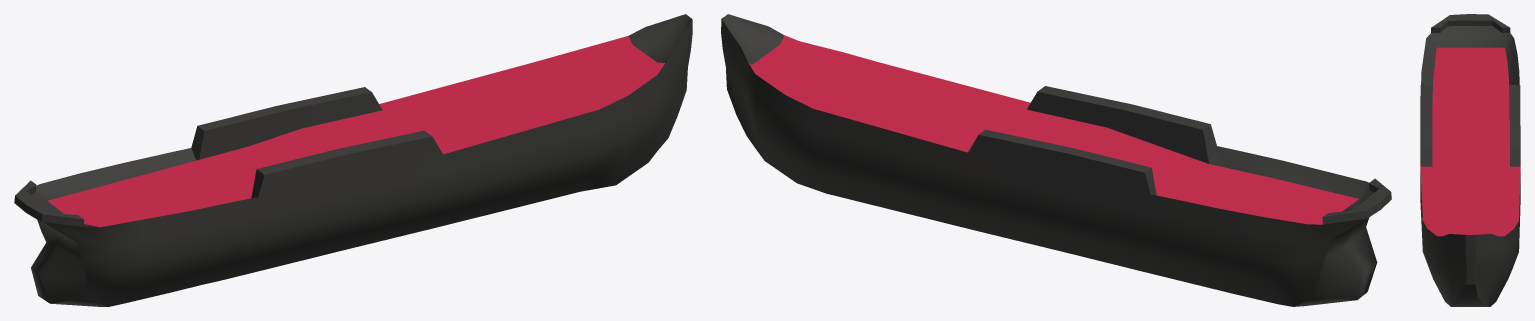
File: Schiff_v1_blender.fbx
The picture shows the model from 3 angles, left to right: view 1: azimuth 30°, elevation 25°; view 2: azimuth 150°, elevation 25°; view 3: azimuth 270°, elevation 25°; orthographic projection. The views are drawn at different scales.
Visible parts, largest first — view 1: Korpus, Holzboden; view 2: Korpus, Holzboden; view 3: Holzboden, Korpus.
Part boxes in pixels (x1,y1,x2,y2): Korpus: (14,14,692,306); Holzboden: (47,36,664,227); Korpus: (721,14,1391,306); Holzboden: (748,35,1358,224); Holzboden: (1420,47,1520,236); Korpus: (1420,14,1520,306).
Bounding box in the file's own units: 4597 × 905 × 809.
